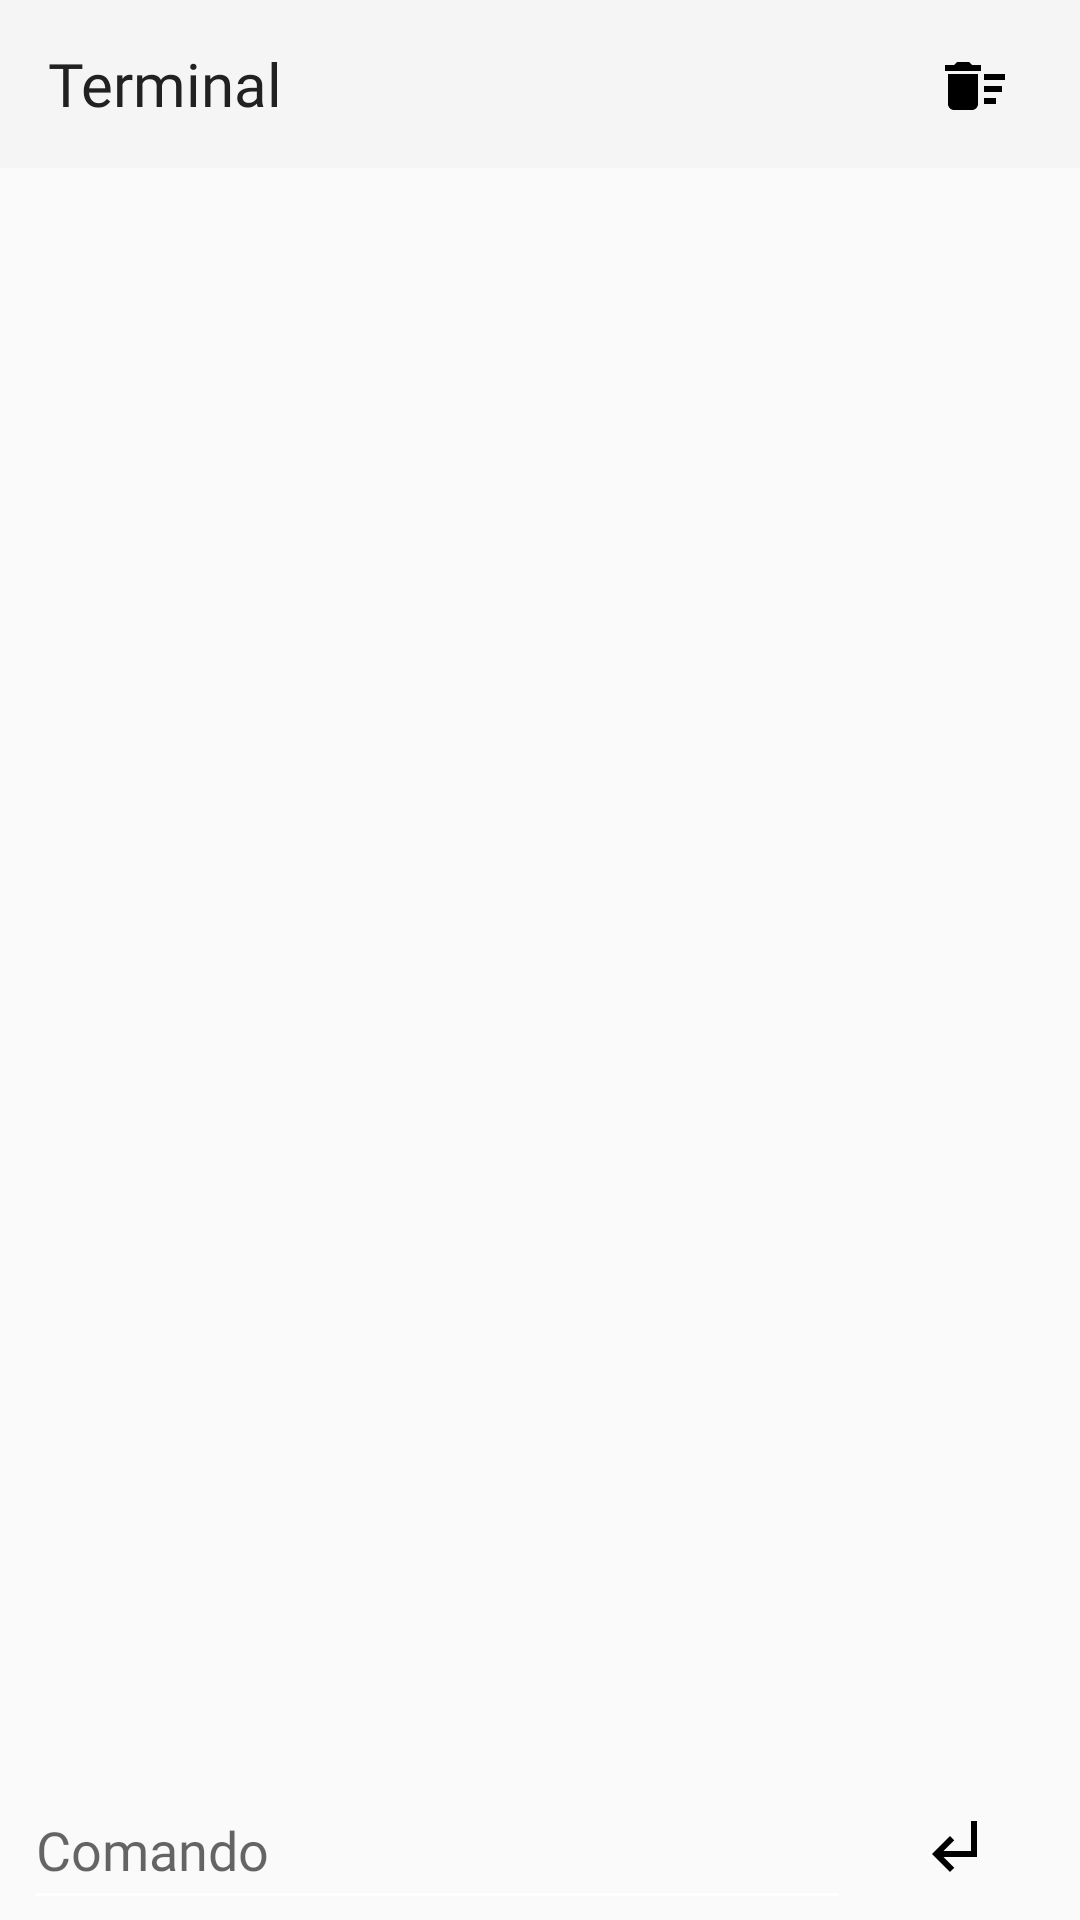

Named icons in this screenshot (1080w x 1920h) and their bounding boxes, [x1=x1, y1=y1, x2=x2, y2=y2]:
delete sweep: [x1=945, y1=62, x2=1005, y2=110]
subdirectory arrow left: [x1=932, y1=1821, x2=977, y2=1872]
